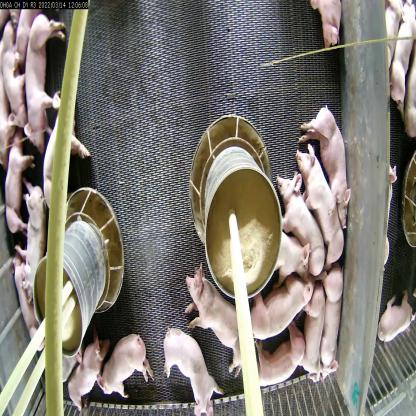Pig: (309, 103, 372, 238), (19, 9, 67, 155), (12, 169, 56, 320), (42, 103, 94, 221), (187, 262, 250, 358), (289, 152, 342, 263), (155, 332, 224, 416), (242, 278, 317, 342), (282, 167, 318, 272), (314, 263, 344, 379), (252, 334, 312, 392), (58, 334, 97, 416), (102, 332, 146, 402), (296, 277, 321, 372)
